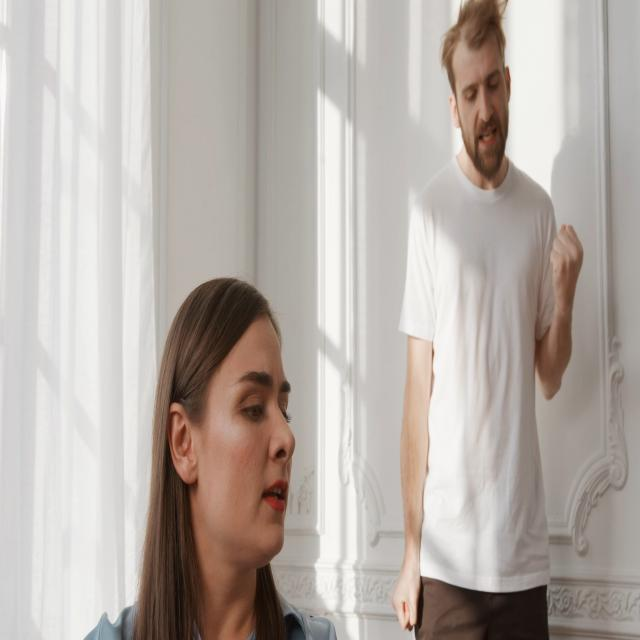angry: (432, 0, 532, 205)
satisfied: (138, 271, 312, 581)
